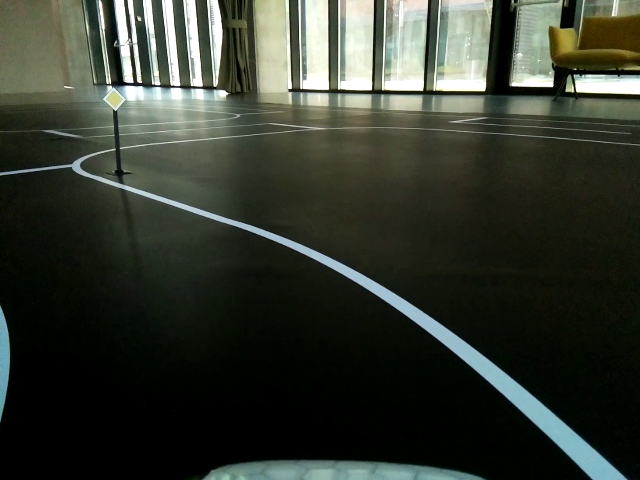priority: (101, 87, 126, 114)
